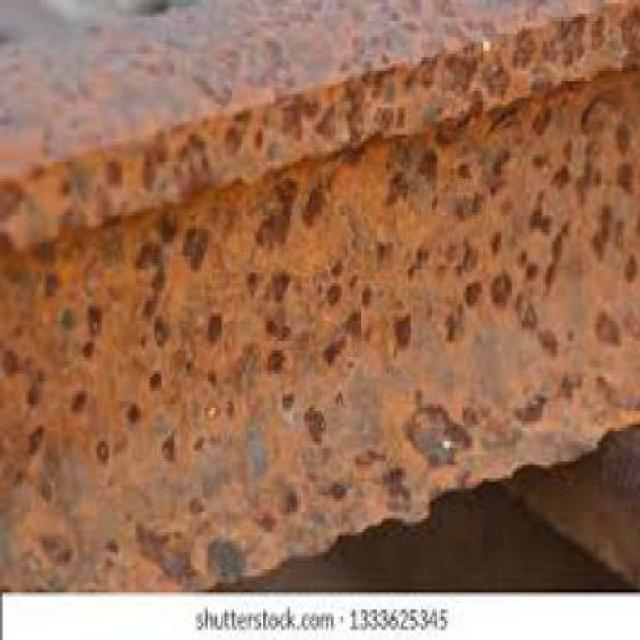non-defective: (0, 0, 638, 589)
